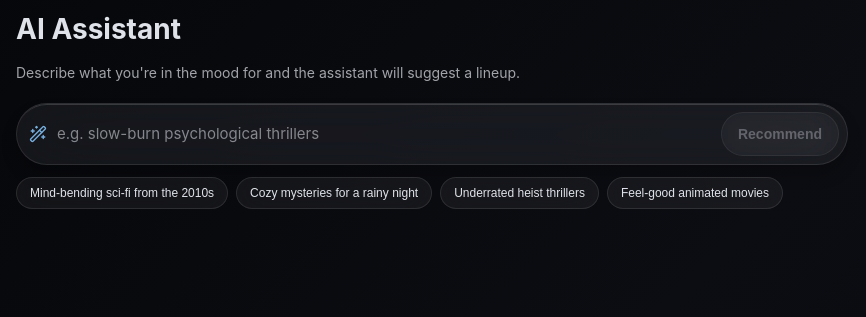
Test: Assistant - recommend flow (local provider) › submits on Enter key
The image size is (866, 317).
Type "neo-noir" into the field named "Describe what to watch". click: (384, 134)
box: [55,117,713,151]
Then press Enter
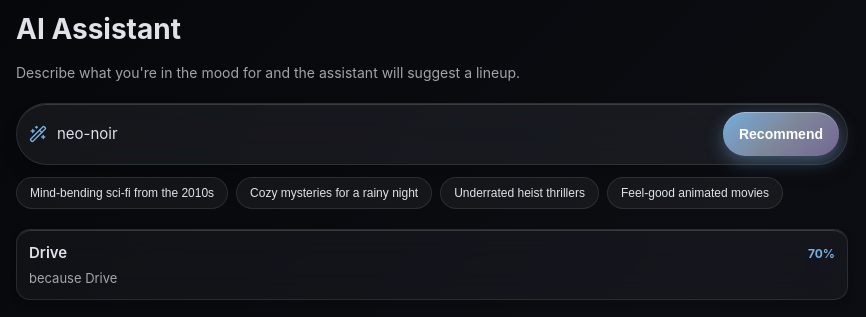
Check: the text "Drive" is shown, box [29,242,67,264]
